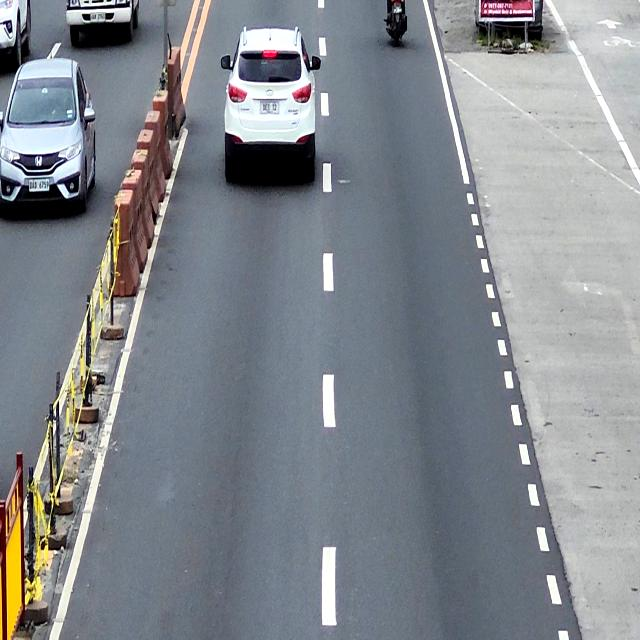Car: (221, 28, 321, 184), (0, 57, 96, 216)
License-Plate: (258, 99, 280, 114), (28, 179, 50, 192), (90, 11, 106, 23)
